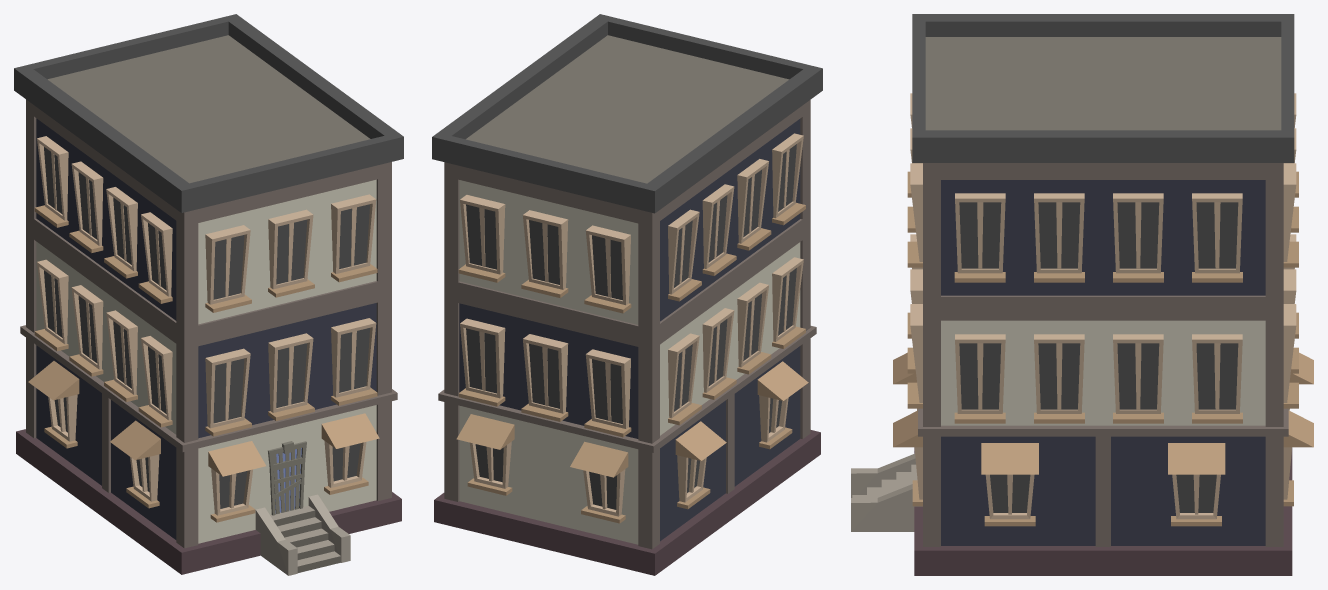
The model's file is building04_color02.fbx.
3 views of the same model, side by side, from view 1: azimuth 30°, elevation 25°; view 2: azimuth 150°, elevation 25°; view 3: azimuth 270°, elevation 25° (orthographic). The views are drawn at different scales.
Visible parts, largest first — view 1: building04_color02; view 2: building04_color02; view 3: building04_color02.
Part boxes in pixels (x1,y1,x2,y2): building04_color02: (14,14,403,575); building04_color02: (432,14,822,575); building04_color02: (851,14,1313,575).
Bounding box in the file's own units: 1065 × 1537 × 1469.
